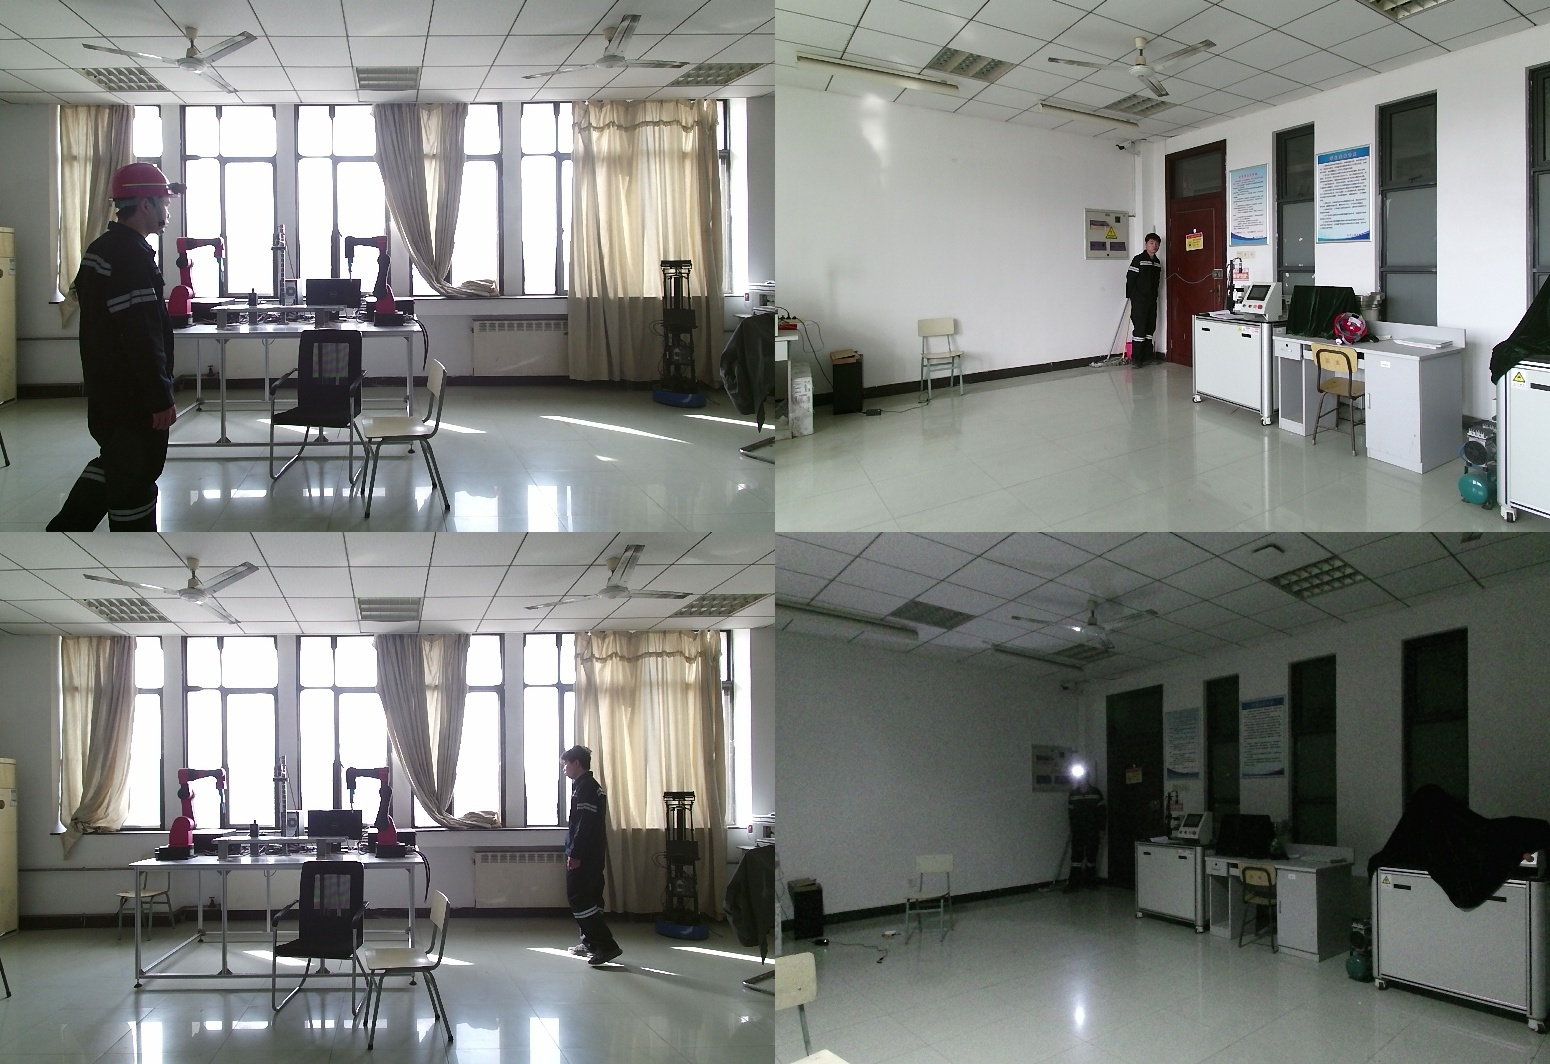person: (46, 163, 190, 532), (561, 745, 622, 966), (1061, 768, 1107, 894), (1125, 233, 1163, 372)
